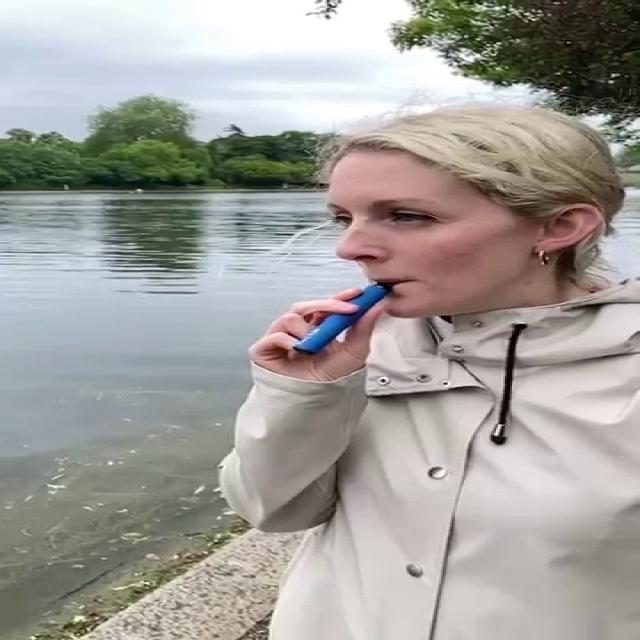Cigarette: (292, 282, 393, 356)
Hand: (245, 286, 388, 380)
Mouth: (368, 276, 424, 288)
